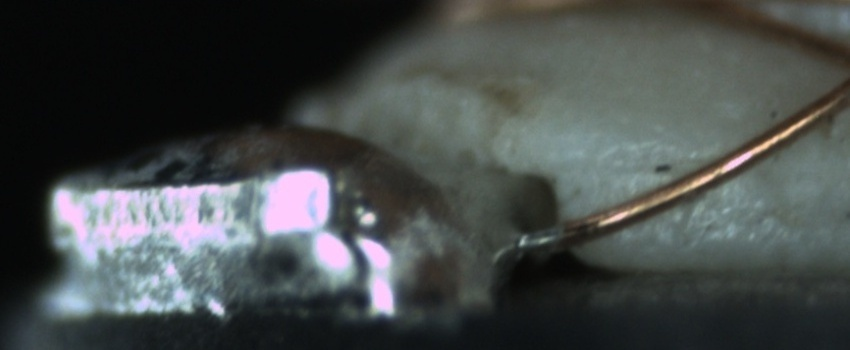TS: (517, 220, 568, 254)
